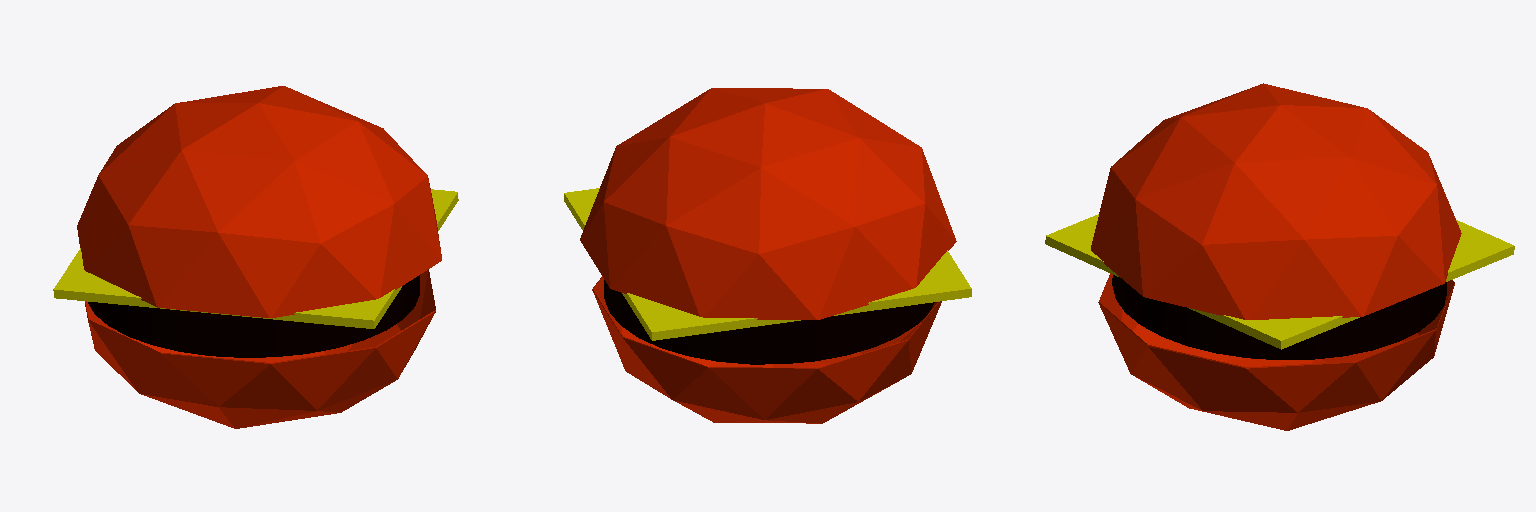
The model's file is BlenderBurger.obj.
3 renders of one model, left to right at view 1: azimuth 30°, elevation 25°; view 2: azimuth 150°, elevation 25°; view 3: azimuth 270°, elevation 25°, orthographic.
Visible parts, largest first — view 1: Icosphere.001, Icosphere, Cylinder, Cube; view 2: Icosphere.001, Icosphere, Cylinder, Cube; view 3: Icosphere.001, Icosphere, Cylinder, Cube.
Boxes of the visible parts, x1,y1,x2,y2 form: Icosphere.001: [77, 86, 441, 317]; Icosphere: [85, 269, 435, 428]; Cylinder: [88, 275, 419, 357]; Cube: [53, 189, 458, 328]; Icosphere.001: [580, 88, 956, 319]; Icosphere: [592, 276, 941, 423]; Cylinder: [604, 280, 934, 364]; Cube: [564, 188, 971, 340]; Icosphere.001: [1091, 83, 1461, 319]; Icosphere: [1098, 273, 1454, 430]; Cylinder: [1112, 275, 1446, 359]; Cube: [1045, 214, 1514, 349].
Size of the model in its own units: 4.35 by 3.11 by 4.35.